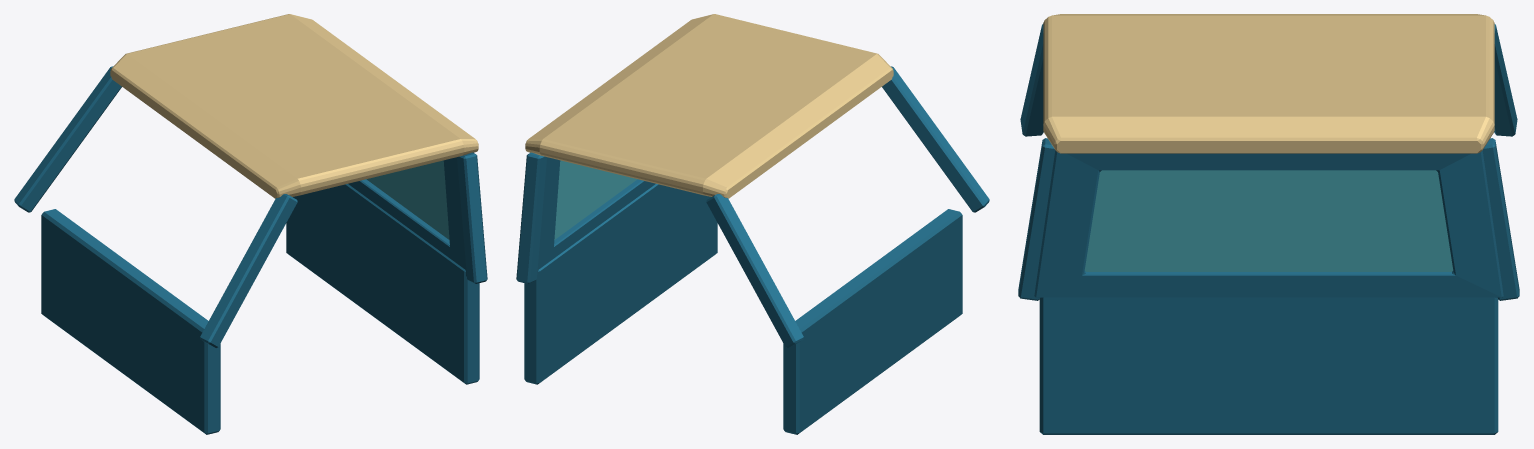
The model's file is QC_CabFrame.fbx.
3 views of the same model, side by side, from view 1: azimuth 30°, elevation 25°; view 2: azimuth 150°, elevation 25°; view 3: azimuth 270°, elevation 25° (orthographic). The views are drawn at different scales.
Parts seen in each view (by area): view 1: QC_CabFrame; view 2: QC_CabFrame; view 3: QC_CabFrame.
Part boxes in pixels (x1,y1,x2,y2): QC_CabFrame: (14, 14, 487, 434); QC_CabFrame: (516, 14, 989, 434); QC_CabFrame: (1018, 14, 1519, 434).
Size of the model in its own units: 1.47 by 1.19 by 1.75.
Materials: 3 (3 with a texture image).
